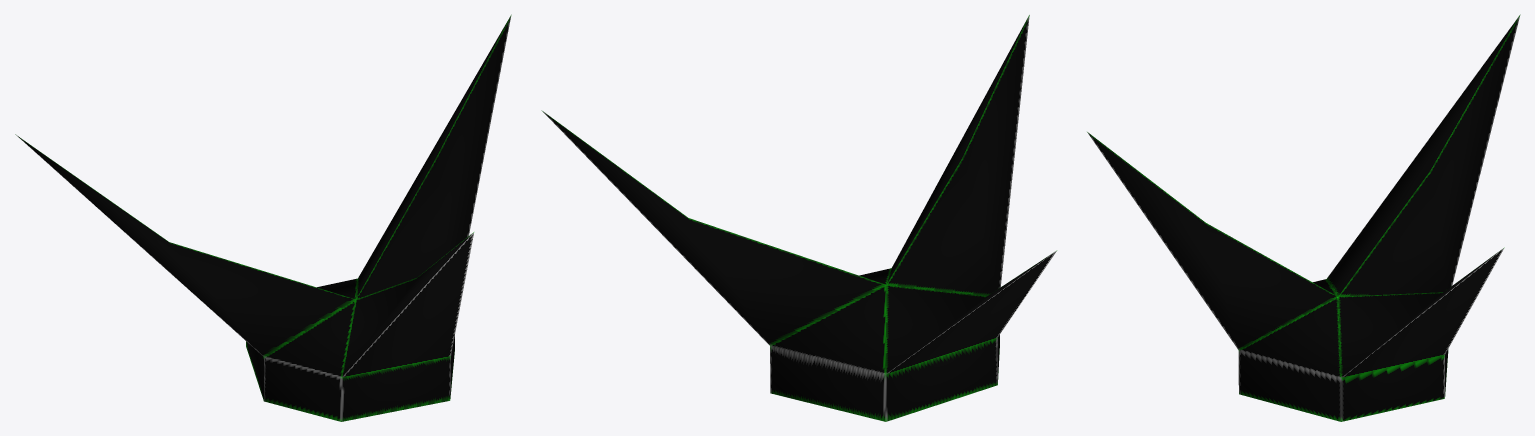
File: c_karen_claw.FBX
The picture shows the model from 3 angles, left to right: view 1: azimuth 30°, elevation 25°; view 2: azimuth 150°, elevation 25°; view 3: azimuth 270°, elevation 25°; orthographic projection. The views are drawn at different scales.
Parts seen in each view (by area): view 1: c_karen_claw; view 2: c_karen_claw; view 3: c_karen_claw.
Part boxes in pixels (box(x1,y1,x2,y2)): c_karen_claw: box(15, 14, 511, 421); c_karen_claw: box(541, 15, 1057, 421); c_karen_claw: box(1087, 14, 1520, 421).
Bounding box in the file's own units: 22.76 × 17.48 × 10.77.
